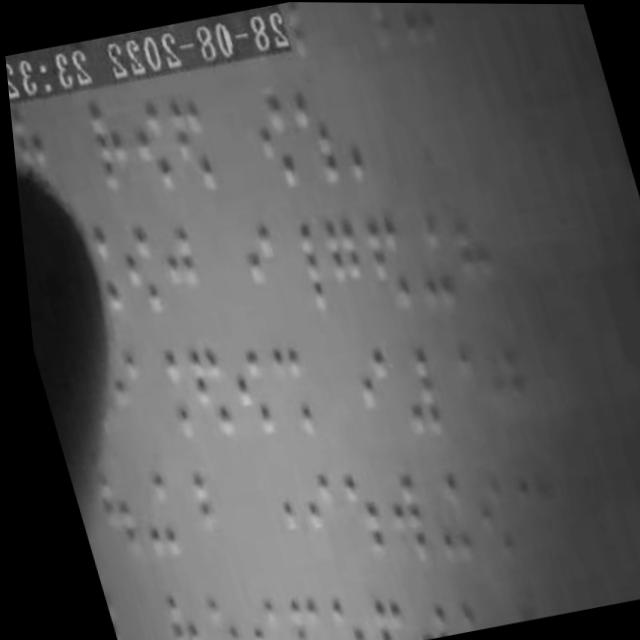braiile: (248, 335, 325, 468), (349, 198, 423, 326), (373, 344, 448, 470), (354, 444, 427, 569), (450, 456, 524, 578), (213, 336, 281, 467), (392, 191, 461, 316), (224, 209, 293, 333), (282, 467, 351, 591), (309, 205, 376, 331), (332, 343, 402, 463), (171, 336, 239, 459), (423, 342, 494, 457), (155, 80, 223, 199), (75, 93, 142, 213), (410, 467, 480, 581), (269, 207, 336, 326), (114, 92, 181, 211), (140, 210, 208, 323), (239, 88, 306, 201), (323, 463, 387, 581), (281, 80, 345, 193), (155, 462, 221, 571), (101, 219, 166, 329), (242, 474, 306, 581), (116, 462, 178, 572), (78, 467, 139, 573), (129, 347, 188, 443), (182, 583, 237, 640), (139, 585, 196, 640), (267, 581, 320, 640), (224, 587, 280, 640), (313, 587, 362, 640), (350, 592, 402, 640), (397, 592, 443, 640)
